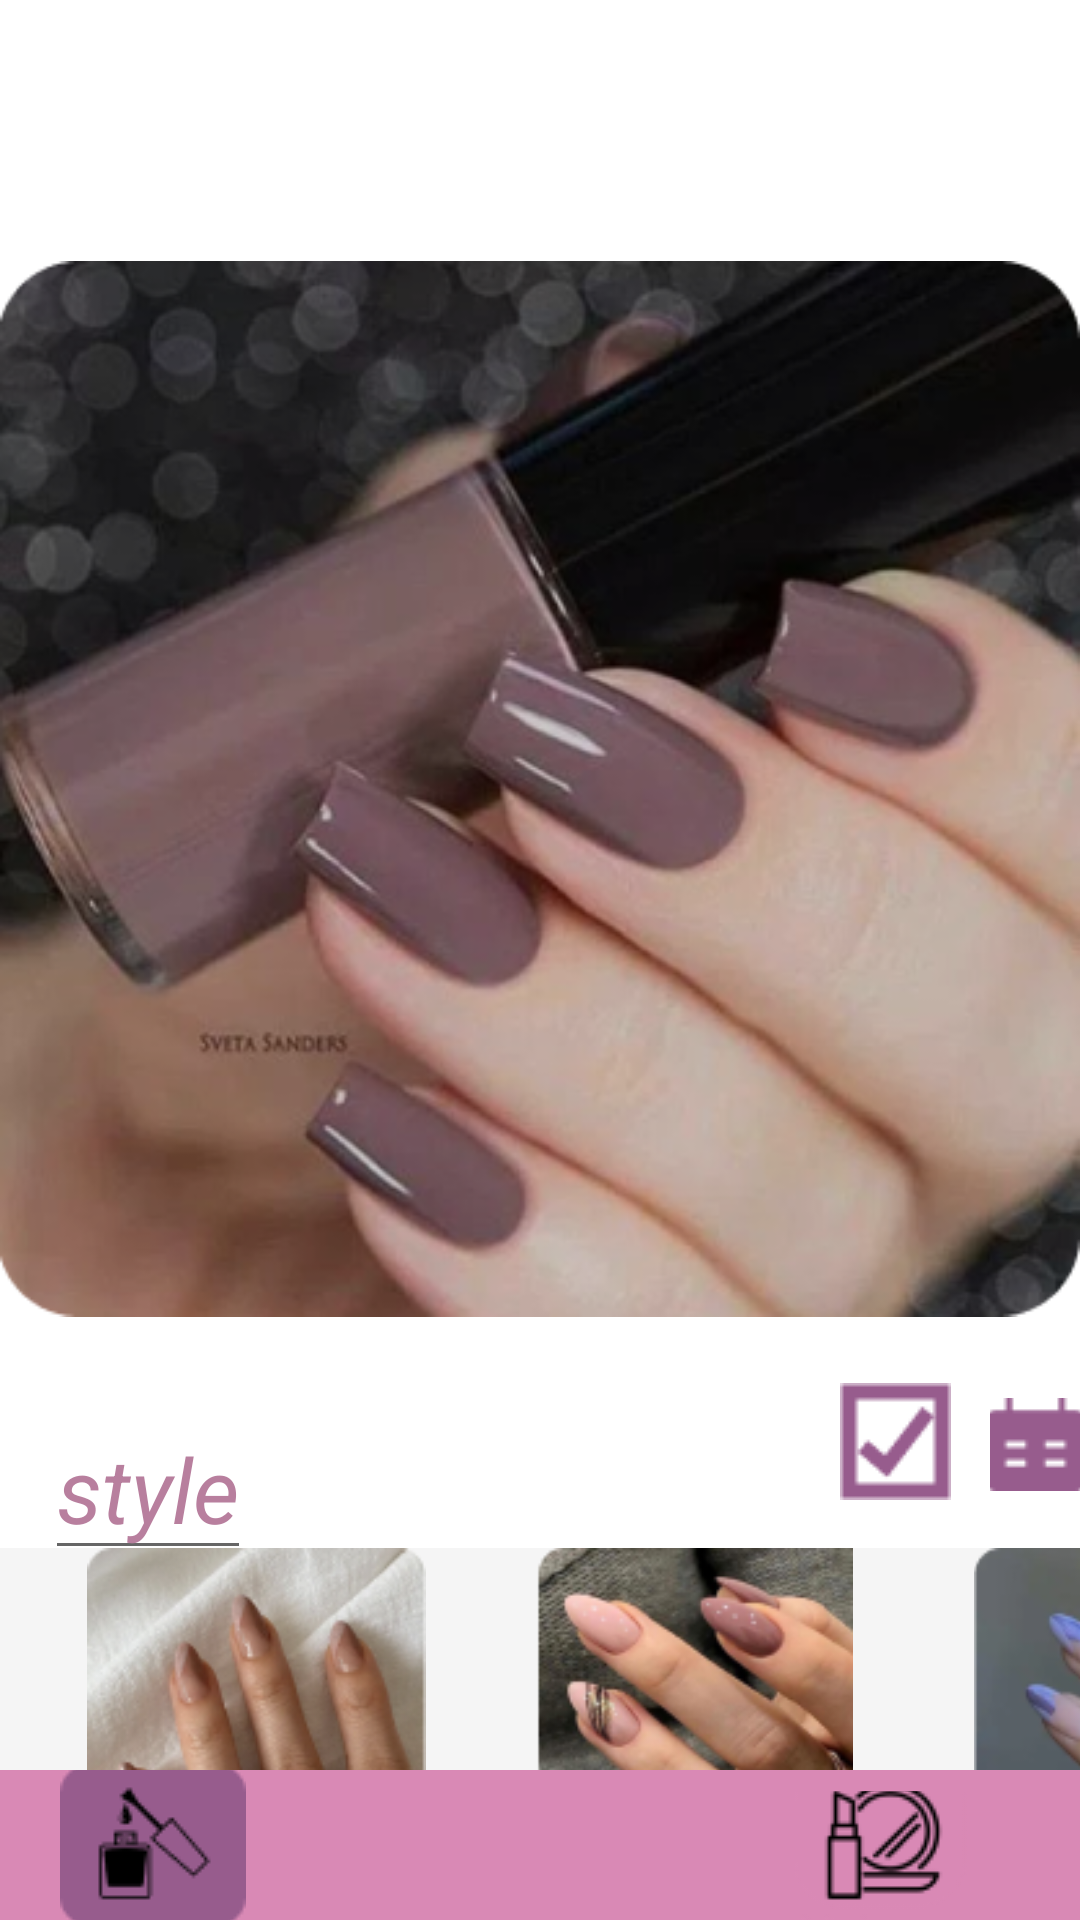

Named icons in this screenshot (1080×1920) and their bounding boxes, (x1, y1, x2, y2):
calvec: (990, 1398, 1080, 1491)
